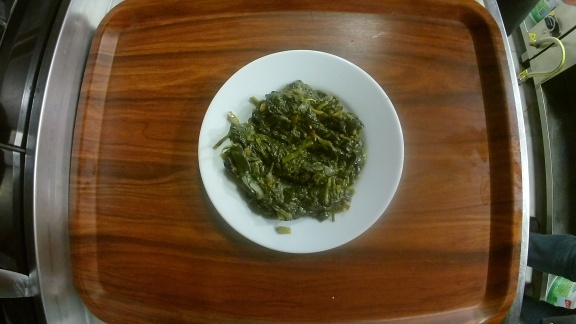ispanak: (196, 48, 406, 253)
